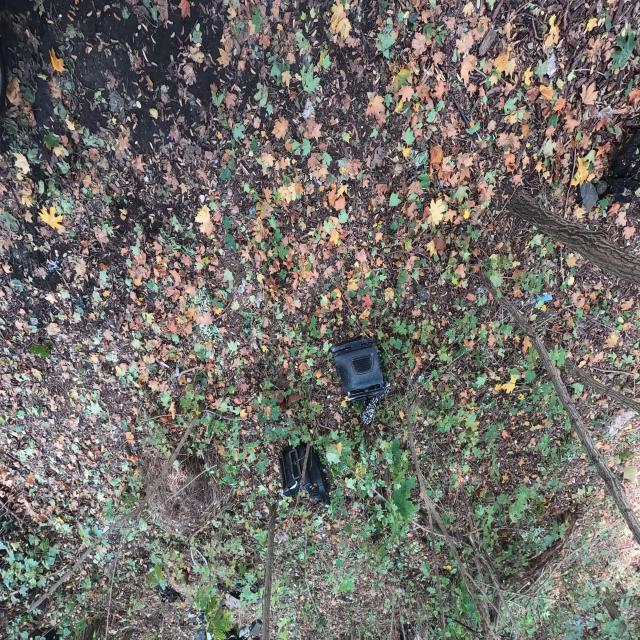rubbish: (256, 237, 309, 304), (0, 434, 42, 515), (310, 135, 363, 199), (247, 214, 281, 265), (454, 36, 486, 55), (82, 560, 95, 593), (400, 28, 419, 48), (87, 336, 108, 349), (549, 331, 564, 349), (390, 346, 404, 363), (378, 4, 391, 21), (425, 0, 434, 22), (374, 332, 385, 348), (389, 2, 402, 14), (600, 314, 611, 323), (383, 424, 391, 433)
